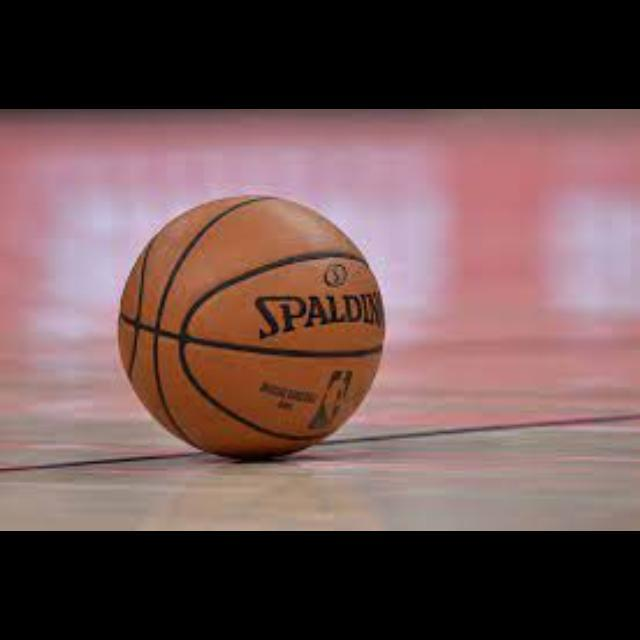basketball: (120, 196, 382, 457)
